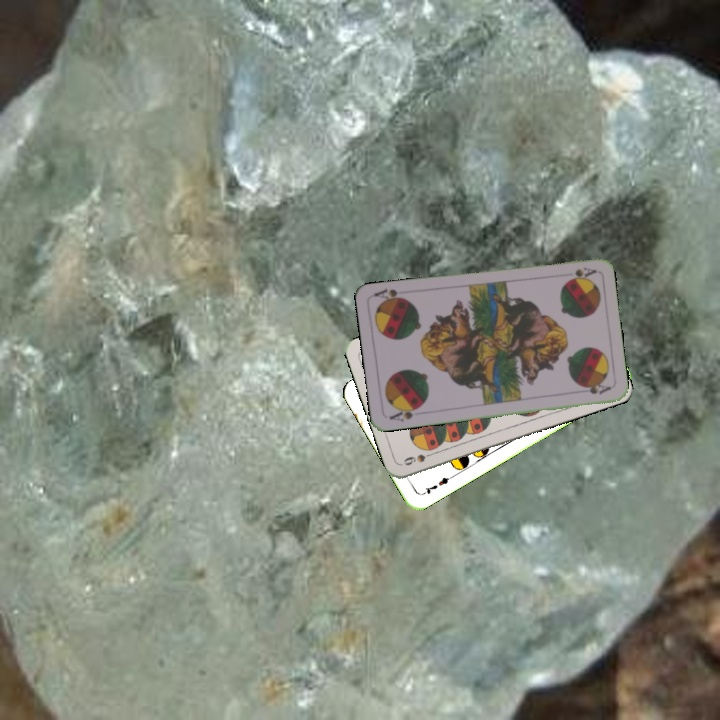E7: (418, 472, 455, 497)
S9: (400, 448, 439, 468)
SA: (386, 402, 425, 424), (565, 263, 598, 282)
